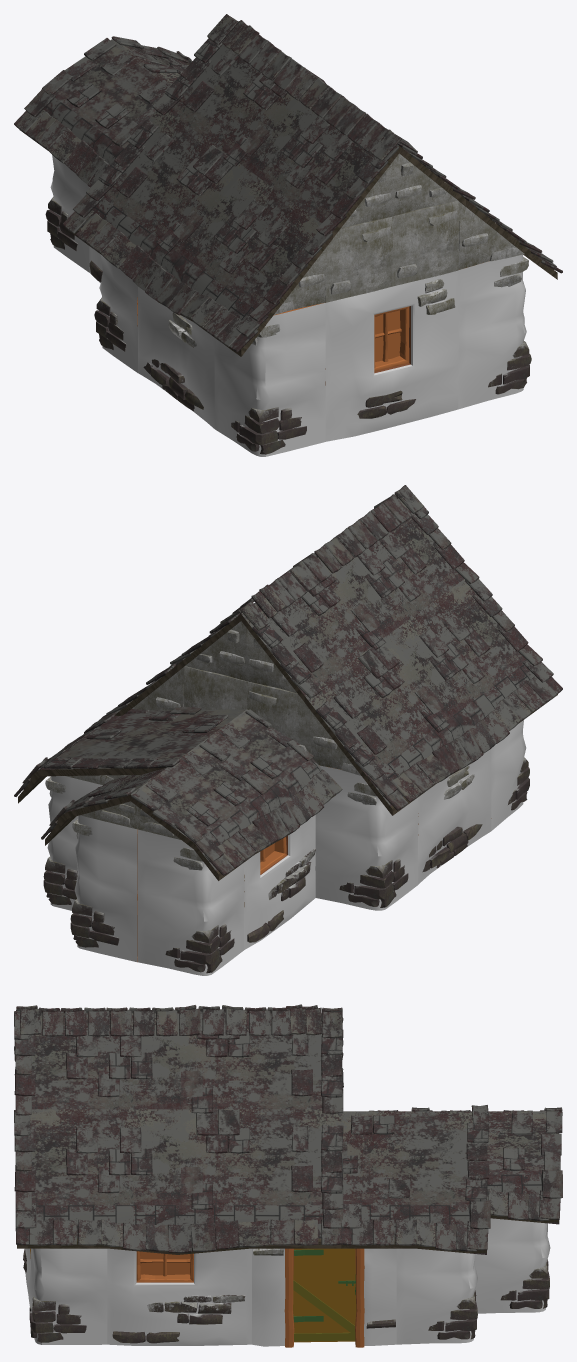
Rendered from Modular_house_1 1.fbx.
3 renders of one model, top to bottom at view 1: azimuth 30°, elevation 25°; view 2: azimuth 150°, elevation 25°; view 3: azimuth 270°, elevation 25°, orthographic. The views are drawn at different scales.
Parts seen in each view (by area): view 1: roof.010, roof.011, wall.009, wall.010, Roof_long_strip_low.006, wall.008, roof.012, wall.011, Roof_long_strip_low.008, wall_roof.006, roof.014, wall_roof.007 (+17 smaller); view 2: roof.010, roof.011, wall.015, Roof_long_strip_low.006, wall.012, roof.015, Roof_long_strip_low.008, wall.014, roof.012, wall.011, wall.013, roof.016 (+20 smaller); view 3: roof.008, roof.009, Roof_long_strip_low.005, roof.015, wall.007, roof.012, Roof_long_strip_low.009, wall.006, wall.005, wall.008, Windows_doors.026, wall.014 (+10 smaller).
Boxes of the visible parts, x1=… form: roof.010: x1=86, y1=111, x2=332, y2=323; roof.011: x1=152, y1=33, x2=399, y2=237; wall.009: x1=325, y1=270, x2=458, y2=441; wall.010: x1=214, y1=303, x2=325, y2=456; Roof_long_strip_low.006: x1=62, y1=194, x2=268, y2=356; wall.008: x1=458, y1=254, x2=526, y2=409; roof.012: x1=207, y1=14, x2=417, y2=160; wall.011: x1=138, y1=286, x2=214, y2=428; Roof_long_strip_low.008: x1=14, y1=89, x2=124, y2=187; wall_roof.006: x1=392, y1=200, x2=459, y2=286; roof.014: x1=42, y1=38, x2=146, y2=118; wall_roof.007: x1=325, y1=217, x2=392, y2=302; roof.010: x1=304, y1=579, x2=542, y2=784; roof.011: x1=241, y1=498, x2=479, y2=701; wall.015: x1=138, y1=829, x2=244, y2=975; Roof_long_strip_low.006: x1=367, y1=660, x2=562, y2=815; wall.012: x1=315, y1=765, x2=418, y2=910; roof.015: x1=40, y1=706, x2=246, y2=776; Roof_long_strip_low.008: x1=194, y1=759, x2=342, y2=880; wall.014: x1=74, y1=815, x2=137, y2=962; roof.012: x1=220, y1=485, x2=424, y2=630; wall.011: x1=418, y1=749, x2=491, y2=884; wall.013: x1=244, y1=815, x2=315, y2=949; roof.016: x1=204, y1=709, x2=314, y2=786; roof.008: x1=14, y1=1109, x2=343, y2=1211; roof.009: x1=14, y1=1013, x2=343, y2=1115; Roof_long_strip_low.005: x1=15, y1=1203, x2=343, y2=1254; roof.015: x1=342, y1=1105, x2=489, y2=1205; wall.007: x1=107, y1=1248, x2=251, y2=1345; roof.012: x1=16, y1=1004, x2=342, y2=1038; Roof_long_strip_low.009: x1=341, y1=1200, x2=490, y2=1254; wall.006: x1=396, y1=1248, x2=477, y2=1344; wall.005: x1=252, y1=1248, x2=396, y2=1346; wall.008: x1=28, y1=1248, x2=107, y2=1344; Windows_doors.026: x1=293, y1=1248, x2=356, y2=1342; wall.014: x1=474, y1=1218, x2=550, y2=1313.
Size of the model in its own units: 495 by 426 by 759.
